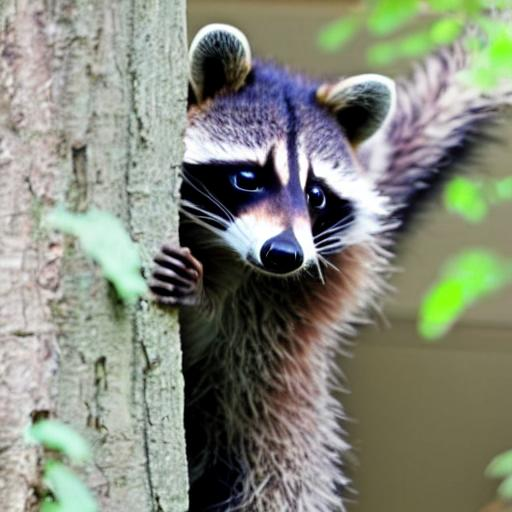raccoon: (178, 0, 408, 512)
